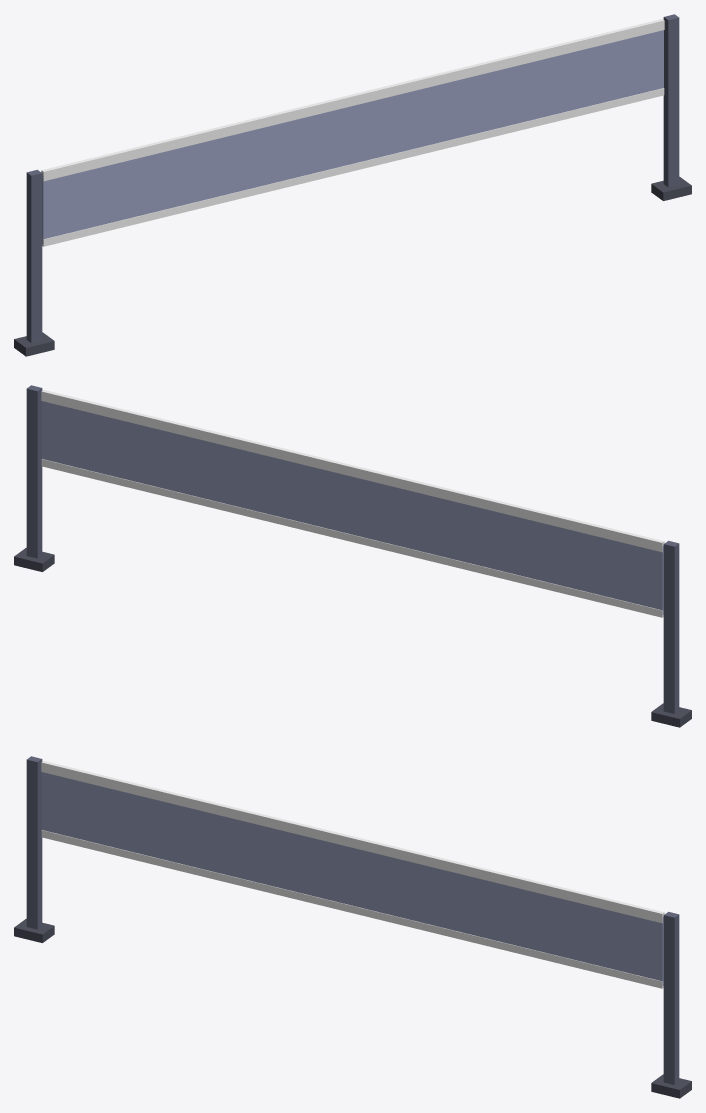
File: filet-volley.glb
The picture shows the model from 3 angles, top to bottom: view 1: azimuth 30°, elevation 25°; view 2: azimuth 150°, elevation 25°; view 3: azimuth 330°, elevation 25°; orthographic projection.
Parts seen in each view (by area): view 1: filet, bande-haute, bande-basse, poteau-0, poteau-1, embase-1, embase-0; view 2: filet, bande-haute, bande-basse, poteau-0, poteau-1, embase-1, embase-0; view 3: filet, bande-haute, bande-basse, poteau-1, poteau-0, embase-0, embase-1.
Boxes of the visible parts, x1,y1,x2,y2 form: filet: (42,30,663,243); bande-haute: (41,19,664,181); bande-basse: (42,88,664,246); poteau-0: (26,169,42,342); poteau-1: (663,14,679,187); embase-1: (651,176,691,200); embase-0: (14,332,54,356); filet: (42,401,663,614); bande-haute: (41,390,664,552); bande-basse: (41,459,663,617); poteau-0: (663,540,679,713); poteau-1: (26,385,42,558); embase-1: (14,547,54,571); embase-0: (651,703,691,727); filet: (42,772,663,985); bande-haute: (41,761,664,923); bande-basse: (41,830,663,988); poteau-1: (663,911,679,1084); poteau-0: (26,756,42,929); embase-0: (14,918,54,942); embase-1: (651,1074,691,1098).
Bounding box in the file's own units: 0.475 × 0.12 × 0.015.
